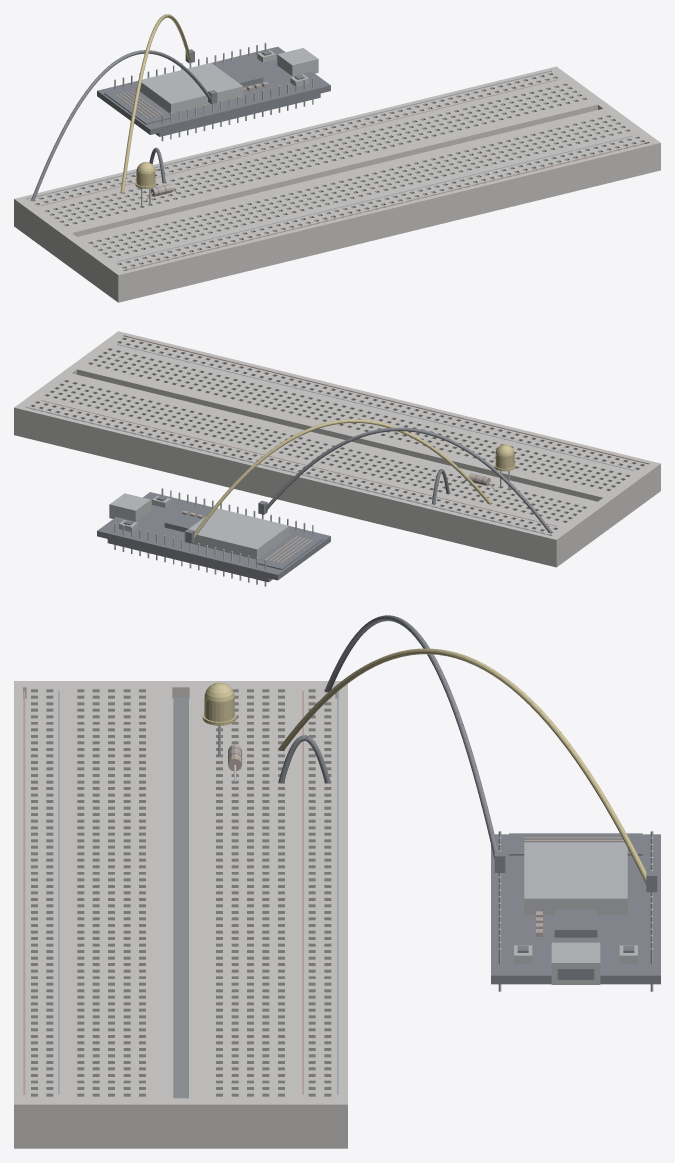
The model's file is step-5.glb.
3 views of the same model, one above another, from view 1: azimuth 30°, elevation 25°; view 2: azimuth 150°, elevation 25°; view 3: azimuth 270°, elevation 25° (orthographic). The views are drawn at different scales.
Visible parts, largest first — view 1: bb1__mesh, uno__mesh, w_gnd_rail__mesh, w_led_sig__mesh, led_yellow__mesh; view 2: bb1__mesh, uno__mesh, w_led_sig__mesh, w_gnd_rail__mesh, led_yellow__mesh; view 3: bb1__mesh, uno__mesh, w_led_sig__mesh, w_gnd_rail__mesh, led_yellow__mesh.
Boxes of the visible parts, x1,y1,x2,y2 form: bb1__mesh: (14, 66, 660, 302); uno__mesh: (97, 42, 330, 141); w_gnd_rail__mesh: (31, 50, 217, 200); w_led_sig__mesh: (120, 14, 194, 192); led_yellow__mesh: (135, 162, 156, 207); bb1__mesh: (14, 331, 660, 567); uno__mesh: (97, 488, 330, 586); w_led_sig__mesh: (185, 419, 491, 543); w_gnd_rail__mesh: (258, 427, 551, 532); led_yellow__mesh: (494, 444, 515, 489); bb1__mesh: (14, 681, 347, 1148); uno__mesh: (491, 831, 660, 991); w_led_sig__mesh: (278, 648, 657, 892); w_gnd_rail__mesh: (325, 615, 505, 872); led_yellow__mesh: (202, 682, 236, 756).
Bounding box in the file's own units: 0.165 × 0.0379 × 0.1065.
